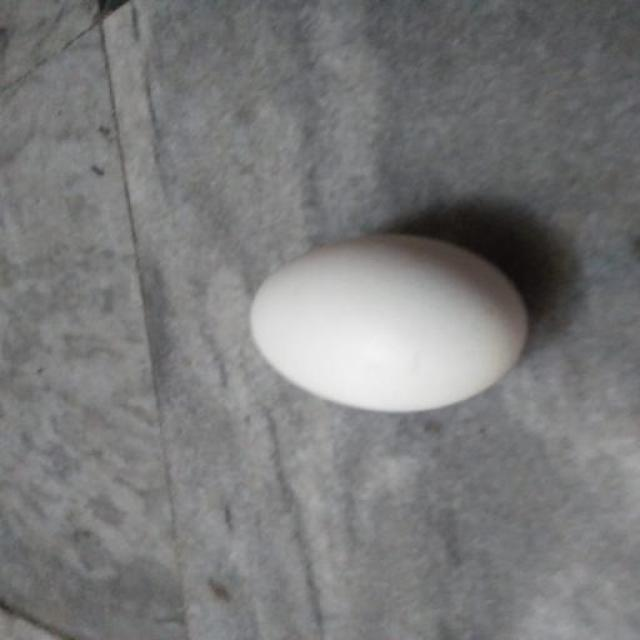telur: (254, 238, 526, 411)
